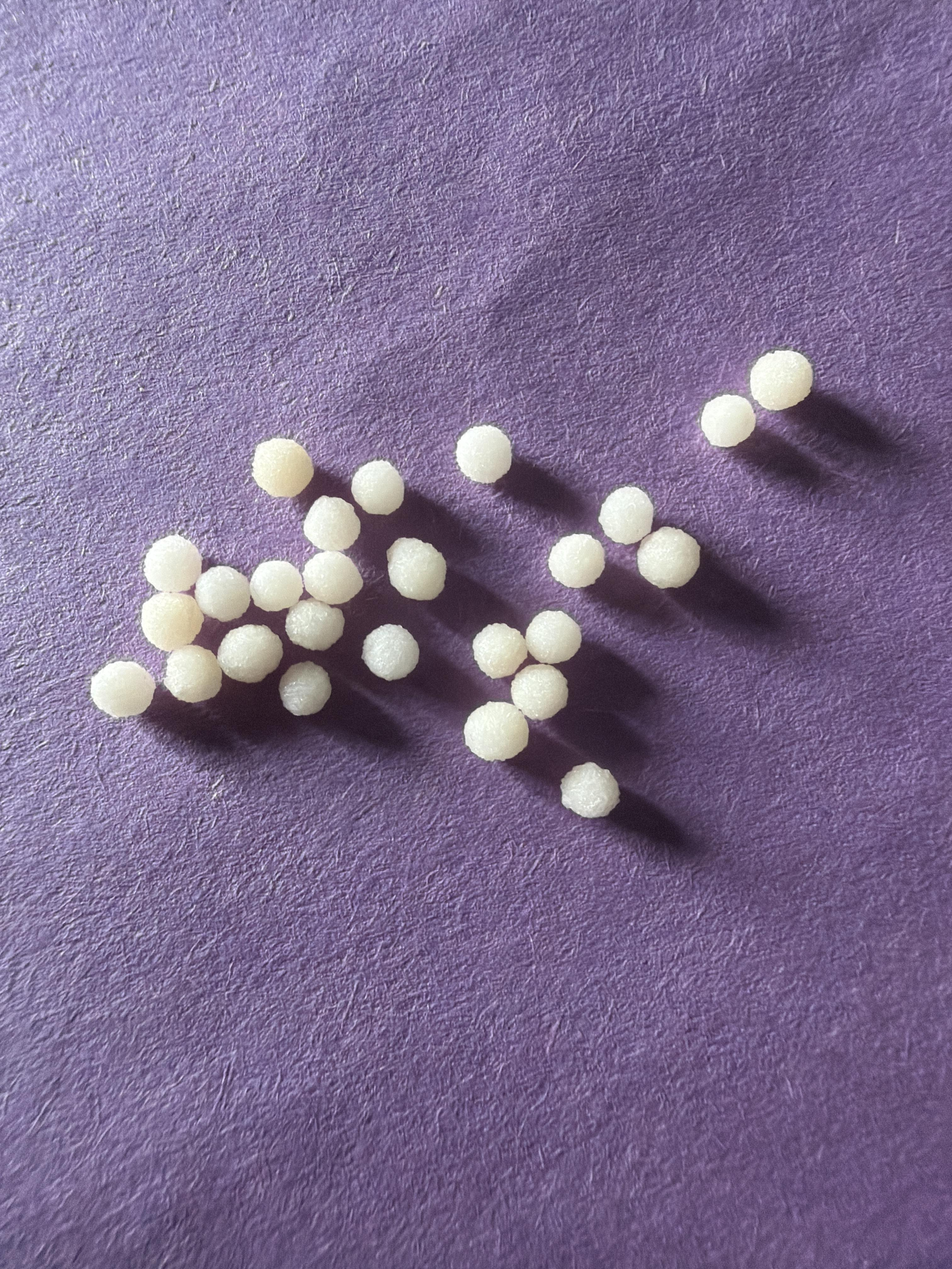pill: (637, 527, 700, 588), (464, 702, 529, 761), (750, 350, 813, 410), (217, 625, 282, 683), (90, 661, 155, 718), (141, 592, 202, 652), (252, 437, 313, 497), (387, 538, 446, 600), (143, 535, 201, 592), (163, 646, 222, 702), (561, 762, 620, 818), (362, 624, 419, 681), (598, 486, 654, 544), (456, 424, 511, 483), (303, 551, 363, 605), (303, 495, 360, 551), (511, 664, 568, 720), (195, 566, 251, 622), (548, 533, 604, 588), (473, 623, 527, 679), (525, 610, 582, 663), (700, 394, 755, 448), (286, 600, 344, 651), (351, 460, 404, 515), (279, 662, 331, 716), (250, 560, 303, 611)
